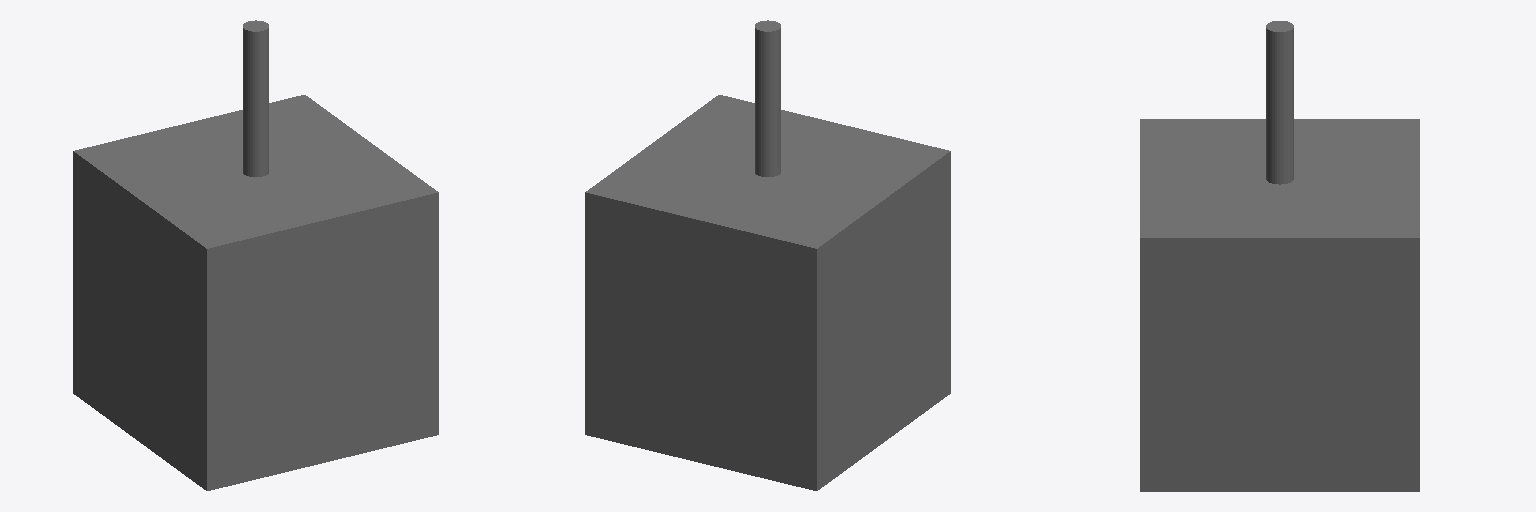
The robot description file, URDF, robot "shock":
<?xml version="1.0" ?>
<!-- =================================================================================== -->
<!-- |    This document was autogenerated by xacro from shock.urdf.xacro               | -->
<!-- |    EDITING THIS FILE BY HAND IS NOT RECOMMENDED                                 | -->
<!-- =================================================================================== -->
<robot name="shock" xmlns:xacro="http://www.ros.org/wiki/xacro">
  <material name="chassis_mat">
    <color rgba="0.5 0.5 0.5 1"/>
  </material>
  <material name="tire_mat">
    <color rgba="0 0 0 1"/>
  </material>
  <!-- Base Block -->
  <link name="base_block">
    <visual>
      <origin xyz="0 0 0.5"/>
      <geometry>
        <box size="1 1 1"/>
      </geometry>
      <material name="chassis_mat"/>
    </visual>
    <collision>
      <origin xyz="0 0 0.5"/>
      <geometry>
        <box size="1 1 1"/>
      </geometry>
    </collision>
    <inertial>
      <origin/>
      <mass value="100"/>
      <inertia ixx="16.6666666667" ixy="0" ixz="0" iyy="16.6666666667" iyz="0" izz="16.6666666667"/>
    </inertial>
  </link>
  <gazebo reference="base_block">
    <material>Gazebo/Grey</material>
  </gazebo>
  <!-- Cylinder -->
  <link name="shock_lower">
    <visual>
      <origin xyz="0 0 0"/>
      <geometry>
        <cylinder length="0.3" radius="0.05"/>
      </geometry>
      <material name="chassis_mat"/>
    </visual>
    <collision>
      <origin xyz="0 0 0"/>
      <geometry>
        <cylinder length="0.3" radius="0.05"/>
      </geometry>
    </collision>
    <inertial>
      <mass value="1"/>
      <inertia ixx="0.008525" ixy="0" ixz="0" iyy="0.008525" iyz="0" izz="0.00205"/>
    </inertial>
  </link>
  <gazebo reference="shock_lower">
    <material>Gazebo/Grey</material>
  </gazebo>
  <link name="shock_upper">
    <visual>
      <origin xyz="0 0 0"/>
      <geometry>
        <cylinder length="0.3" radius="0.05"/>
      </geometry>
      <material name="chassis_mat"/>
    </visual>
    <collision>
      <origin xyz="0 0 0"/>
      <geometry>
        <cylinder length="0.3" radius="0.05"/>
      </geometry>
    </collision>
    <inertial>
      <mass value="1"/>
      <inertia ixx="0.008525" ixy="0" ixz="0" iyy="0.008525" iyz="0" izz="0.00205"/>
    </inertial>
  </link>
  <gazebo reference="shock_upper">
    <material>Gazebo/Grey</material>
  </gazebo>
  <joint name="shock_absorber" type="prismatic">
    <parent link="shock_lower"/>
    <child link="shock_upper"/>
    <origin xyz="0 0 0.3"/>
    <axis xyz="0 0 -1"/>
    <limit effort="20" lower="-0.15" upper="0.15" velocity="1000"/>
  </joint>
  <joint name="shock_base_block" type="fixed">
    <parent link="base_block"/>
    <child link="shock_lower"/>
    <origin rpy="0 0 0" xyz="0 0 1.15"/>
  </joint>
  <transmission name="shock_absorber_trans">
    <type>transmission_interface/SimpleTransmission</type>
    <joint name="shock_absorber">
      <hardwareInterface>EffortJointInterface</hardwareInterface>
    </joint>
    <actuator name="shock_absorber_act">
      <!-- This hardwareInterface element exists for compatibility
	             with ROS Hydro. -->
      <hardwareInterface>EffortJointInterface</hardwareInterface>
      <mechanicalReduction>1</mechanicalReduction>
    </actuator>
  </transmission>
  <gazebo>
    <plugin filename="libgazebo_ros_control.so" name="gazebo_ros_control"/>
  </gazebo>
</robot>

--- What the picture shows (computed from the rendered views, not written in the file) ---
3 views of the same robot in one strip: view 1: azimuth 30°, elevation 25°; view 2: azimuth 150°, elevation 25°; view 3: azimuth 270°, elevation 25° (orthographic).
Model shock with 3 links and 2 joints (1 prismatic, 1 fixed), rooted at base_block, posed all joints at 0.
Visible links, largest first — view 1: base_block, shock_upper, shock_lower; view 2: base_block, shock_upper, shock_lower; view 3: base_block, shock_upper, shock_lower.
Link boxes in pixels (x1,y1,x2,y2): base_block: (73,95,438,490); shock_upper: (243,20,268,104); shock_lower: (243,101,268,176); base_block: (585,95,950,490); shock_upper: (755,20,780,104); shock_lower: (755,101,780,176); base_block: (1140,119,1419,491); shock_upper: (1266,21,1293,107); shock_lower: (1266,104,1293,184).
Size in the robot's own frame: 1 by 1 by 1.6 metres.
Geometry: primitives only (box / cylinder / sphere), no mesh files.